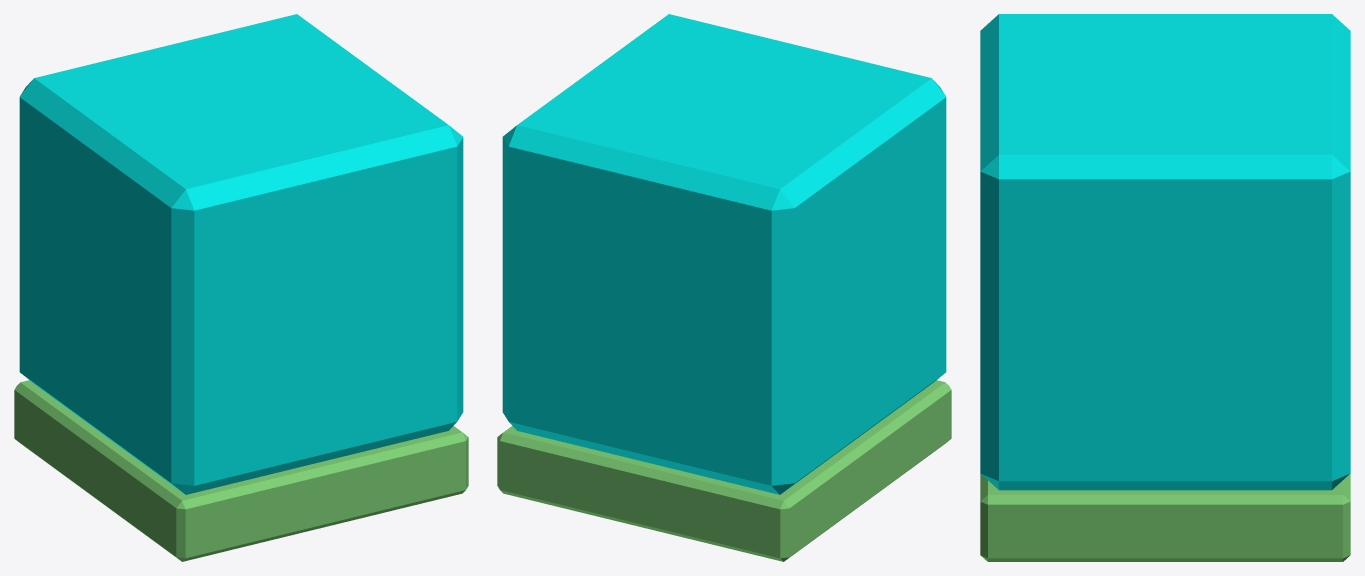
The model's file is Wall.fbx.
3 views of the same model, side by side, from view 1: azimuth 30°, elevation 25°; view 2: azimuth 150°, elevation 25°; view 3: azimuth 270°, elevation 25° (orthographic). The views are drawn at different scales.
Parts seen in each view (by area): view 1: pCube2, pCube1; view 2: pCube2, pCube1; view 3: pCube2, pCube1.
Boxes of the visible parts, box(x1,y1,x2,y2) form: pCube2: box(19, 14, 463, 494); pCube1: box(14, 380, 468, 561); pCube2: box(502, 14, 946, 494); pCube1: box(497, 380, 951, 561); pCube2: box(980, 14, 1350, 490); pCube1: box(980, 473, 1350, 561).
Size of the model in its own units: 1 by 1.2 by 1.
